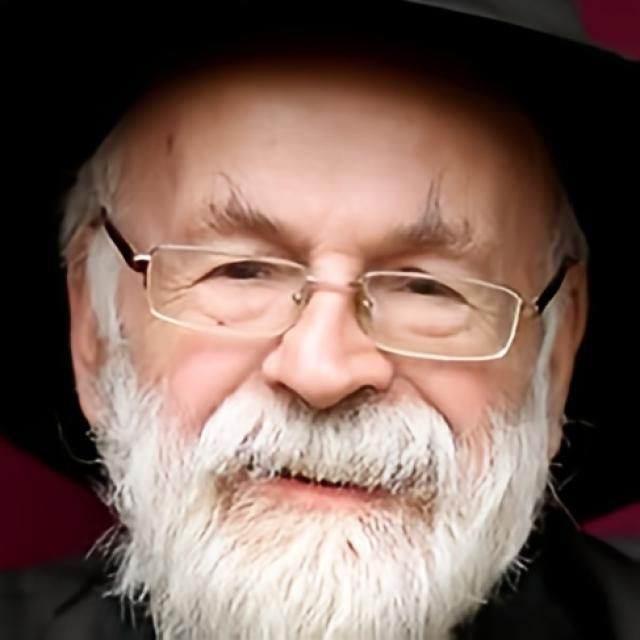happy: (124, 71, 548, 639)
